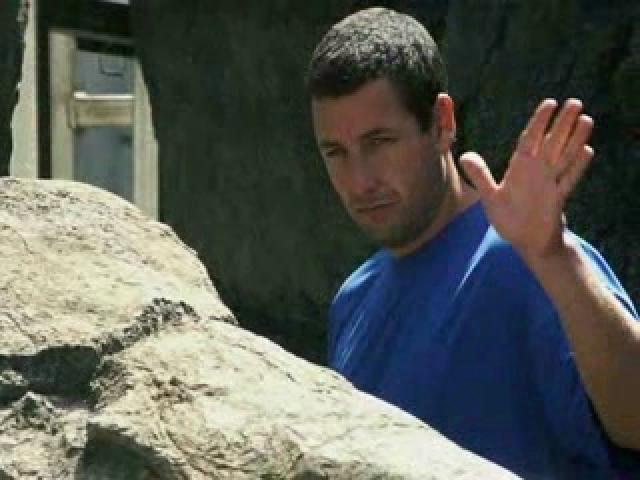L: (298, 1, 640, 480)
